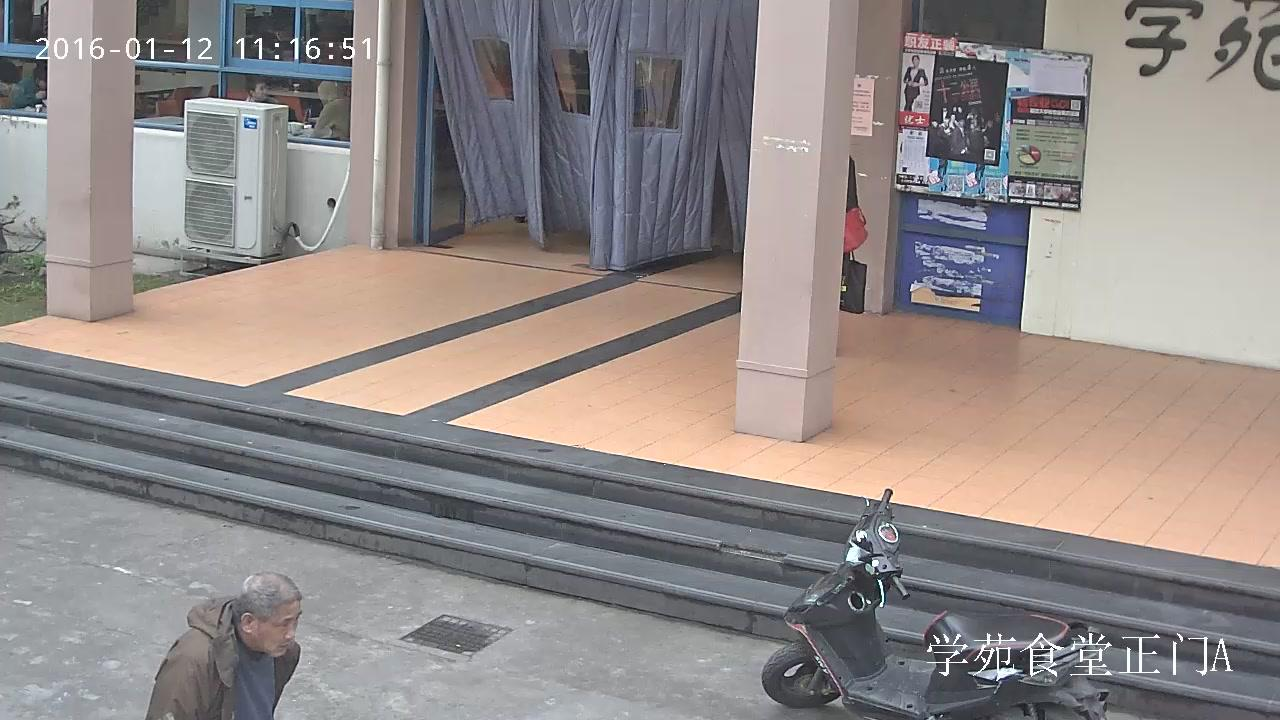person: (144, 570, 303, 720), (313, 81, 350, 140), (8, 62, 47, 109), (903, 55, 927, 111)
